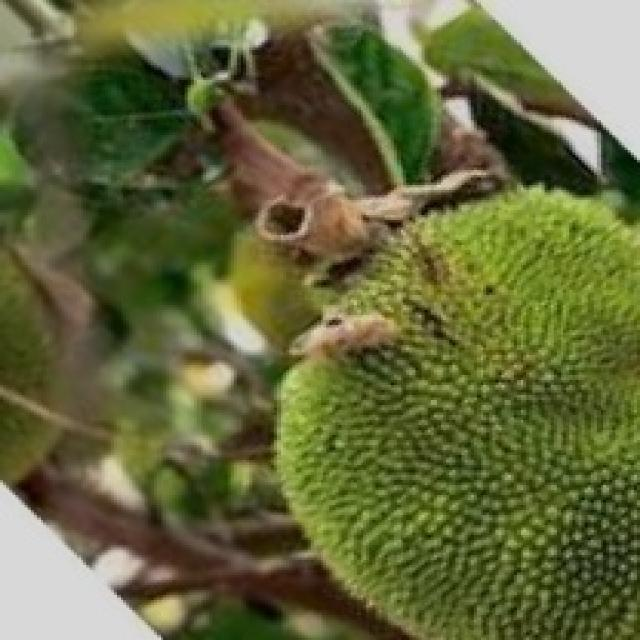Fruit: (243, 242, 637, 640)
